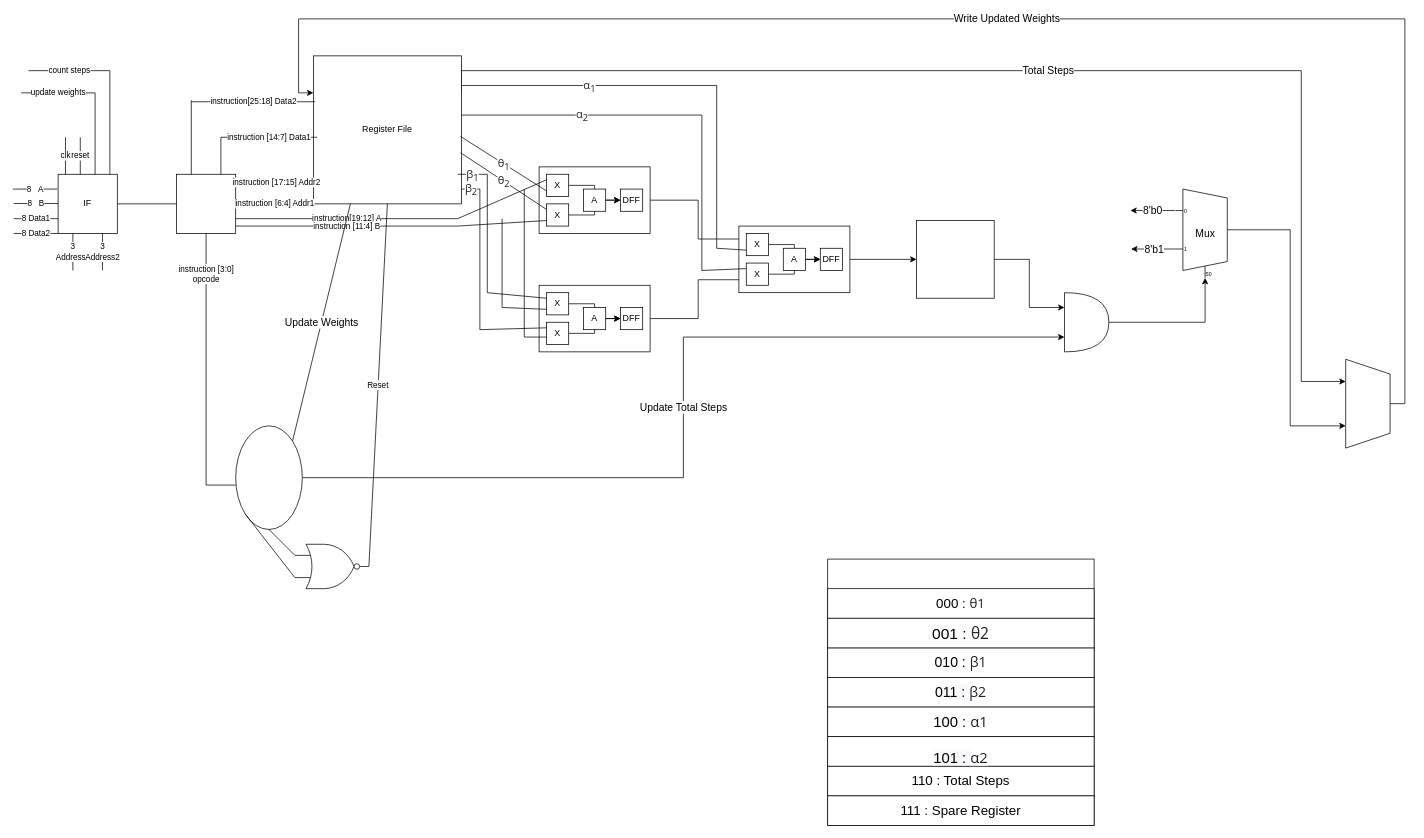
The diagram is 1424 pixels wide and 838 high, and some of its shapes have lost their labels. Each missing label, with the centre of its shape:
"Activation Block" goes at (955,259).
"Adder" goes at (1367,403).
"Control Unit" goes at (268,477).
"ID" goes at (206,203).
